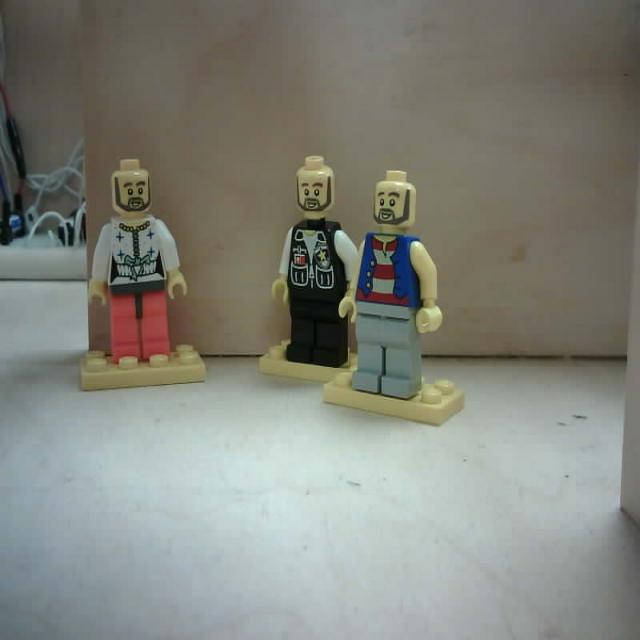Lego-People: (322, 170, 467, 428), (76, 159, 207, 393), (257, 156, 364, 390)
